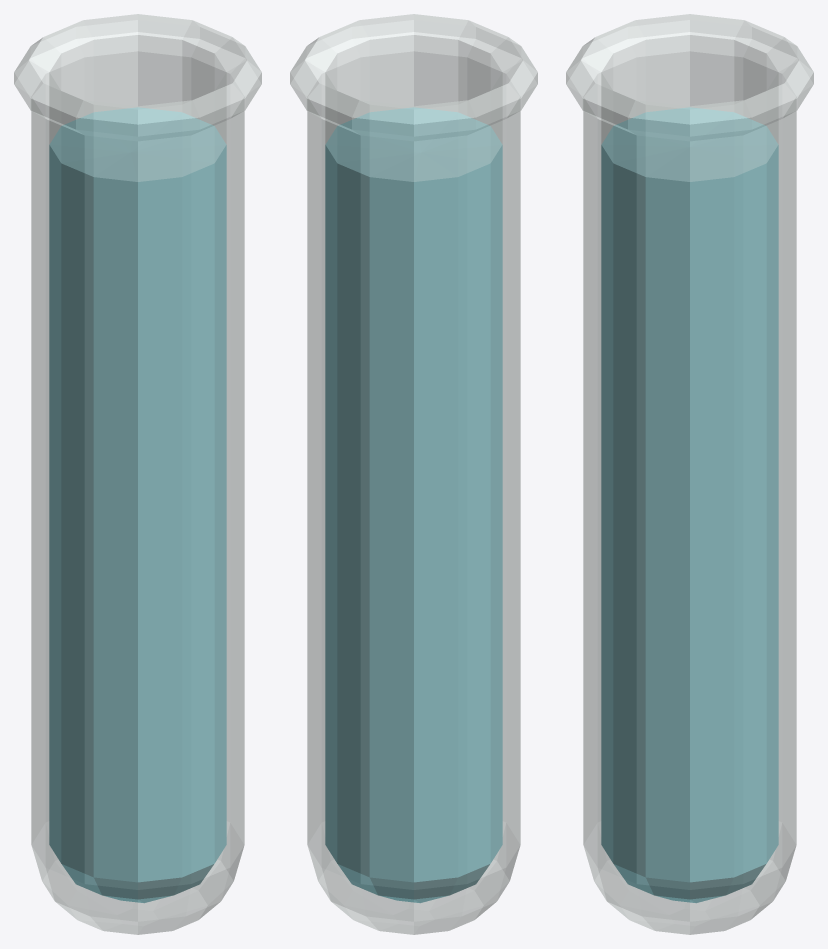
File: test_tube_blue.fbx
3 renders of one model, left to right at view 1: azimuth 30°, elevation 25°; view 2: azimuth 150°, elevation 25°; view 3: azimuth 270°, elevation 25°, orthographic.
Parts seen in each view (by area): view 1: group396116694.001; view 2: group396116694.001; view 3: group396116694.001.
Part boxes in pixels (box(x1,y1,x2,y2)): group396116694.001: box(14, 14, 261, 934); group396116694.001: box(290, 14, 537, 934); group396116694.001: box(566, 14, 813, 934).
Size of the model in its own units: 18.6 by 71 by 18.6.
